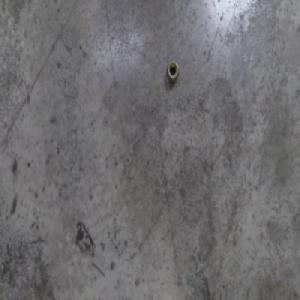Nut: (166, 60, 179, 85)
